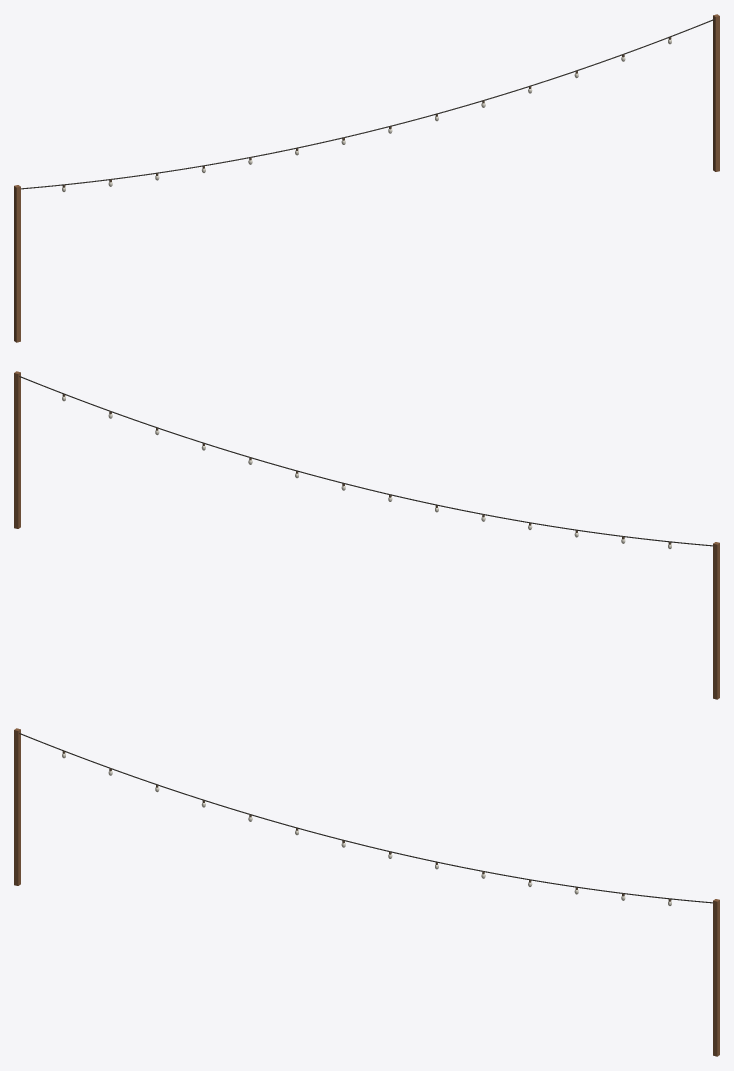
File: terrace-festoon.glb
3 views of the same model, one above another, from view 1: azimuth 30°, elevation 25°; view 2: azimuth 150°, elevation 25°; view 3: azimuth 330°, elevation 25° (orthographic).
Parts seen in each view (by area): view 1: Outdoor lighting flex, Cedar festoon support, Cedar festoon support.001; view 2: Outdoor lighting flex, Cedar festoon support, Cedar festoon support.001; view 3: Outdoor lighting flex, Cedar festoon support, Cedar festoon support.001.
Boxes of the visible parts, x1,y1,x2,y2 form: Outdoor lighting flex: (21,19,714,189); Cedar festoon support: (14,185,20,342); Cedar festoon support.001: (713,14,719,171); Outdoor lighting flex: (19,376,712,546); Cedar festoon support: (713,542,719,699); Cedar festoon support.001: (14,371,20,528); Outdoor lighting flex: (19,733,712,903); Cedar festoon support: (14,728,20,885); Cedar festoon support.001: (713,899,719,1056).
Size of the model in its own units: 15.09 by 3.18 by 0.093.
